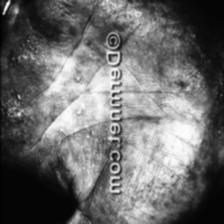Non-Cancerous Skin Condition: (106, 0, 224, 208), (0, 0, 104, 224)
